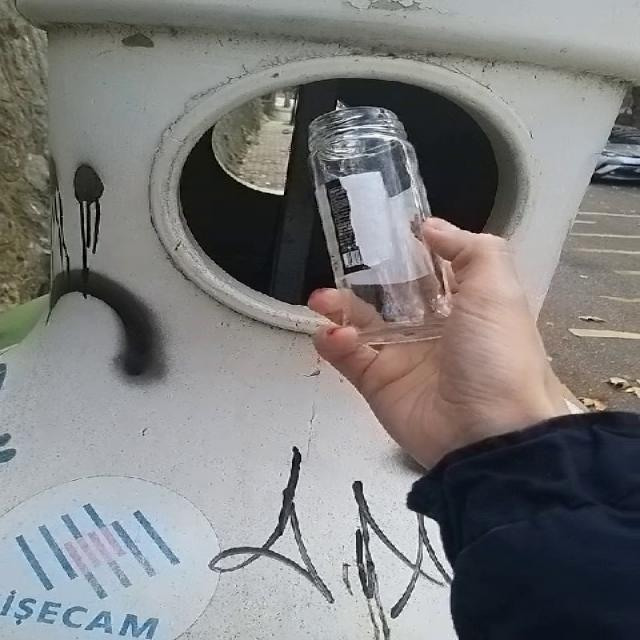glass: (309, 107, 451, 344)
